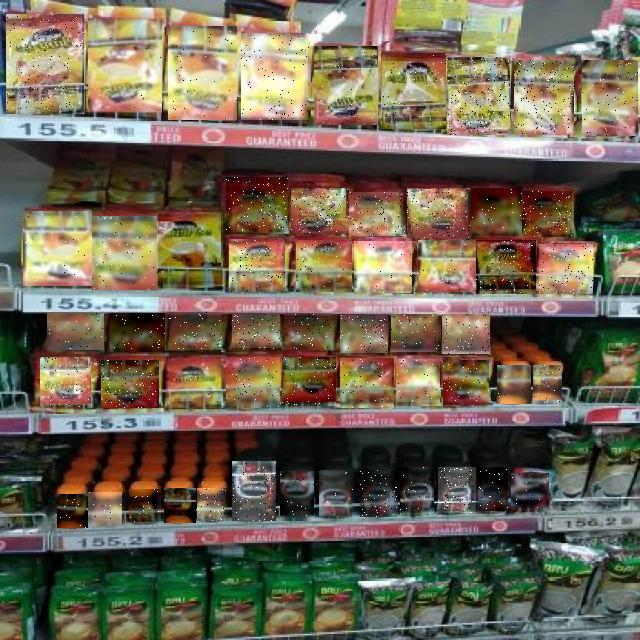Coffee: (7, 14, 85, 114), (89, 20, 163, 116), (168, 26, 237, 120), (242, 34, 310, 122), (23, 211, 92, 286), (314, 46, 378, 125), (447, 57, 510, 135), (382, 53, 446, 129), (92, 216, 157, 290), (158, 214, 222, 288), (514, 60, 574, 135), (582, 61, 638, 137), (226, 177, 288, 232), (476, 240, 536, 294), (407, 188, 470, 238), (418, 240, 476, 292), (354, 241, 412, 293), (168, 358, 226, 410), (229, 239, 285, 292), (296, 240, 352, 292), (101, 360, 159, 408), (539, 244, 593, 294), (226, 358, 280, 408), (340, 358, 394, 408), (291, 189, 349, 235), (232, 461, 276, 521), (469, 189, 523, 237), (282, 358, 336, 406), (40, 358, 91, 408), (350, 192, 406, 236), (523, 191, 572, 237), (110, 313, 165, 352), (47, 313, 104, 350), (443, 360, 489, 405), (169, 313, 222, 351), (397, 360, 441, 404), (442, 315, 490, 355), (392, 314, 440, 352), (340, 315, 388, 353), (360, 469, 398, 517), (284, 313, 333, 350), (438, 467, 476, 513), (232, 314, 280, 350), (320, 470, 356, 516), (400, 468, 434, 516), (281, 472, 315, 520), (511, 474, 549, 510), (497, 365, 531, 404), (478, 467, 508, 511), (89, 492, 123, 526), (164, 488, 196, 523), (533, 366, 562, 404), (57, 494, 88, 528), (198, 488, 228, 521), (130, 489, 160, 522)
